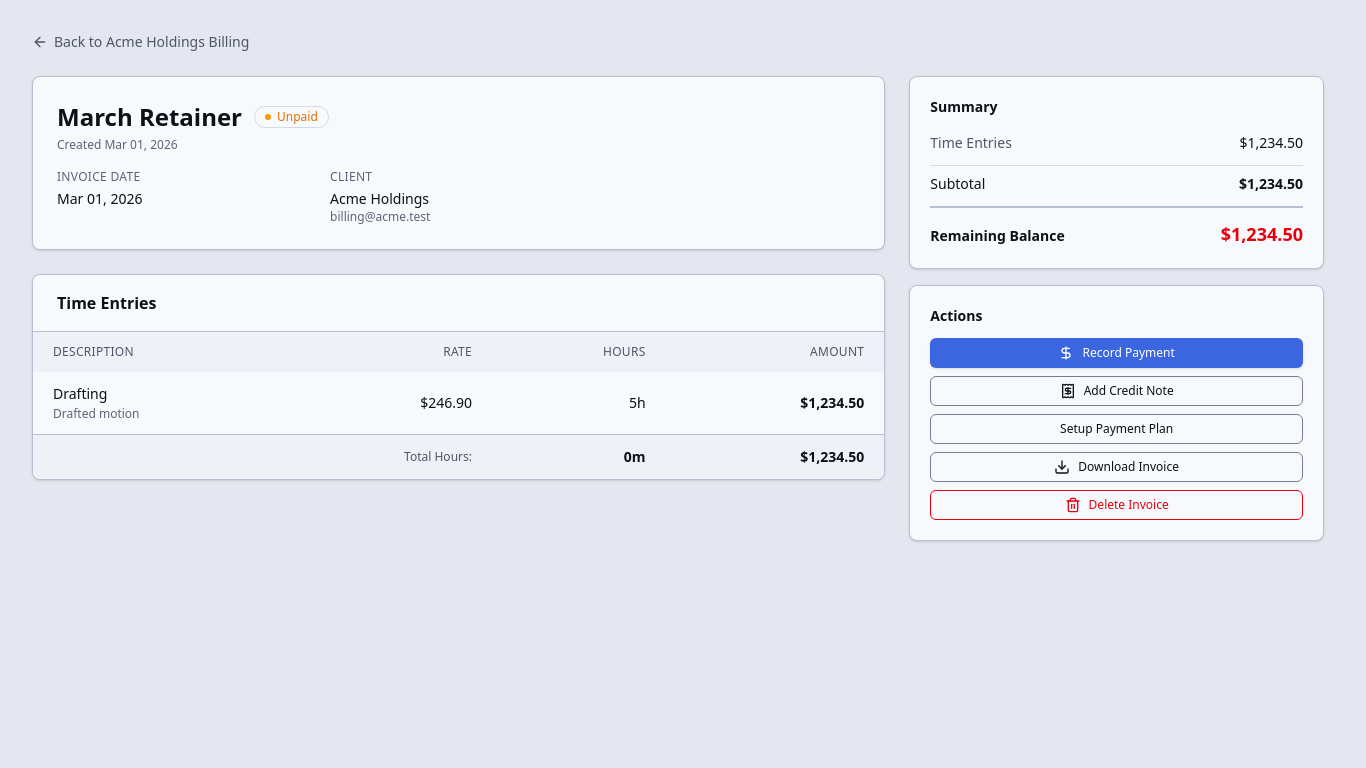
it: recording a payment › shows a refused payment inside the dialog and keeps the invoice on screen
The width and height of the screenshot is (1366, 768).
Expected: the heading "March Retainer" is shown, 57,101 -> 242,133
Click the button "Record Payment": click(1117, 353) 930,338 -> 1303,368
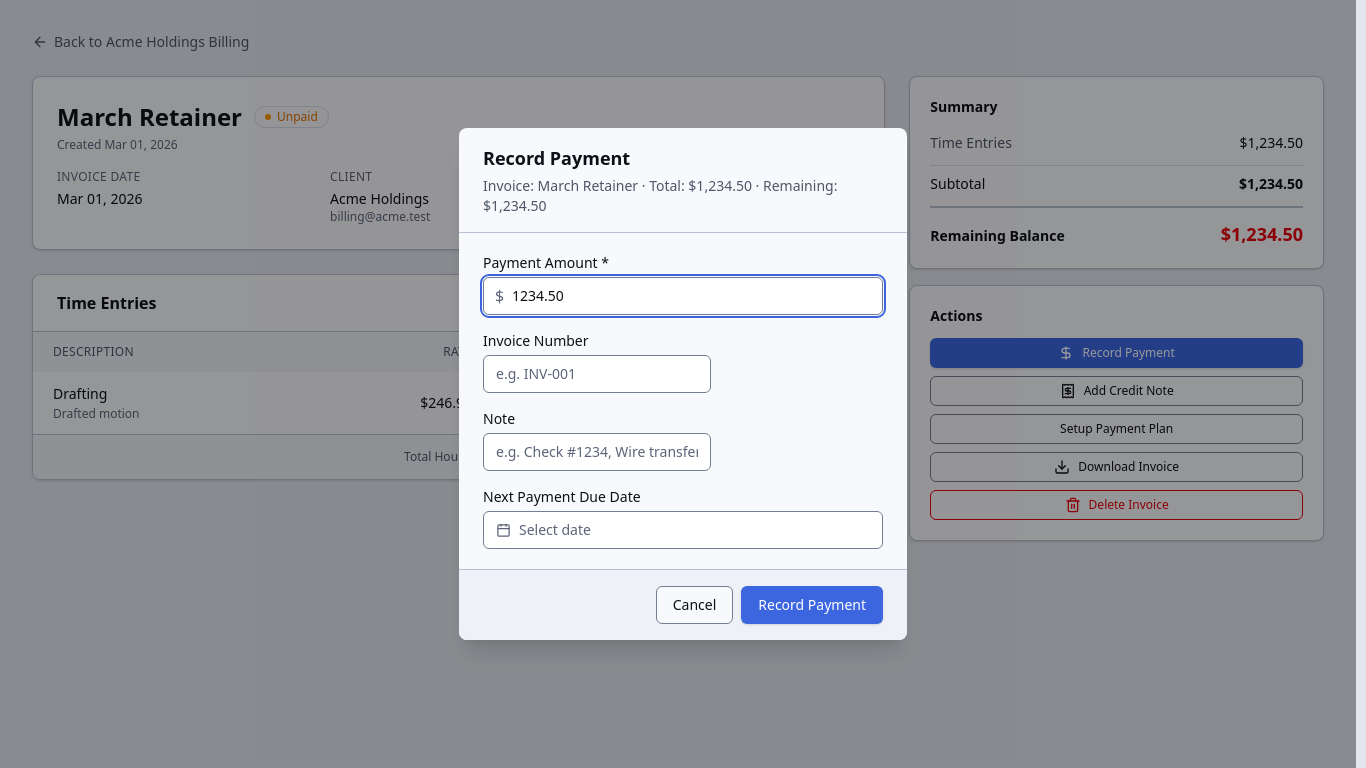
Click the button "Record Payment": click(812, 605) 741,586 -> 883,624
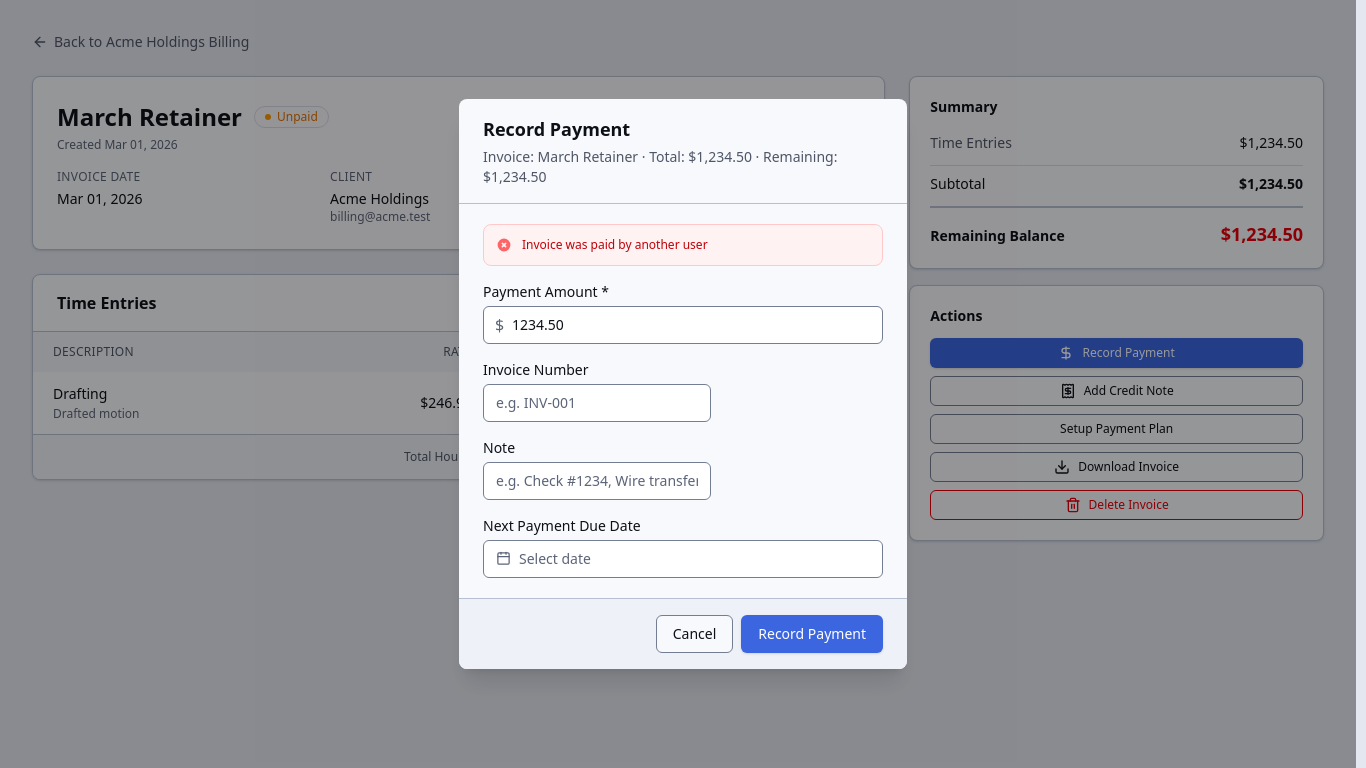
Expected: the heading "March Retainer" is shown, 57,101 -> 242,133
Expected: the dialog "Record Payment" is shown, 459,99 -> 907,669
Expected: the message reads "Invoice was paid by another user", 522,236 -> 708,253
